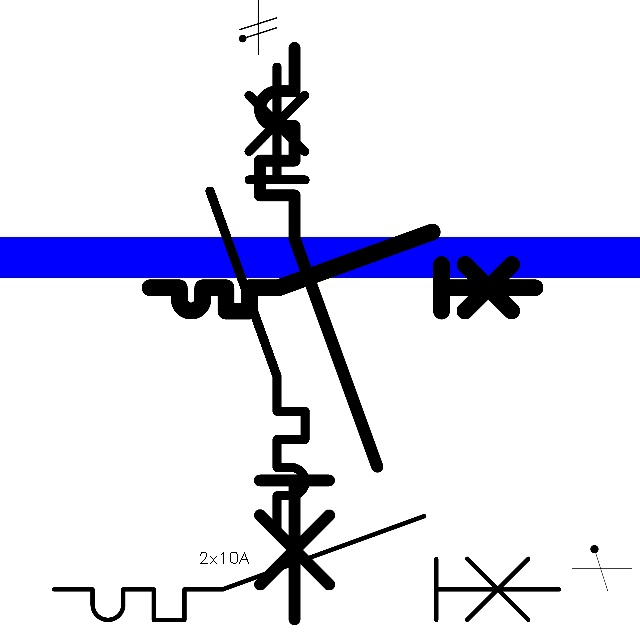interruptor_termomagnetico: (245, 33, 392, 633), (41, 503, 571, 633), (198, 55, 317, 543), (140, 222, 545, 321)
